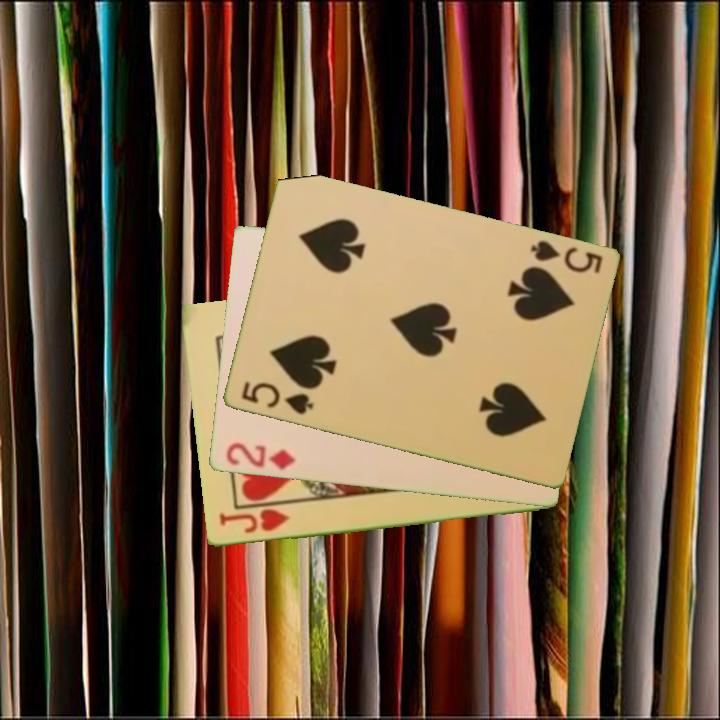2d: (222, 439, 297, 473)
5s: (237, 378, 316, 418), (526, 237, 605, 277)
Jh: (215, 505, 292, 537)
